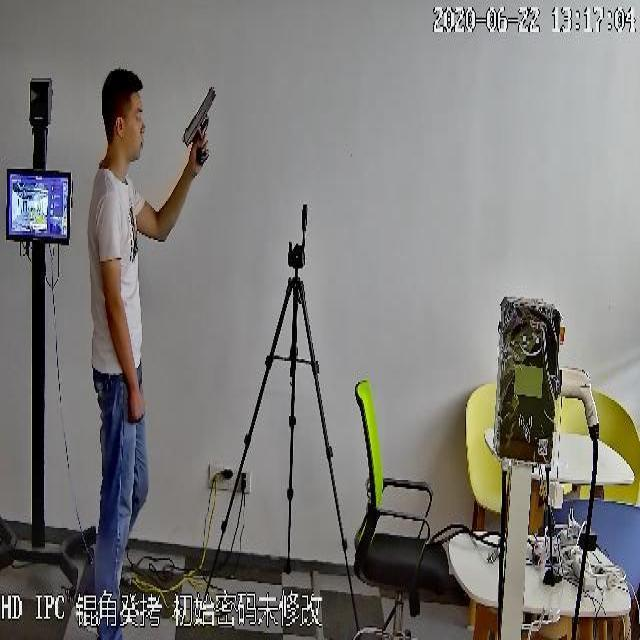pistol: (180, 84, 223, 168)
